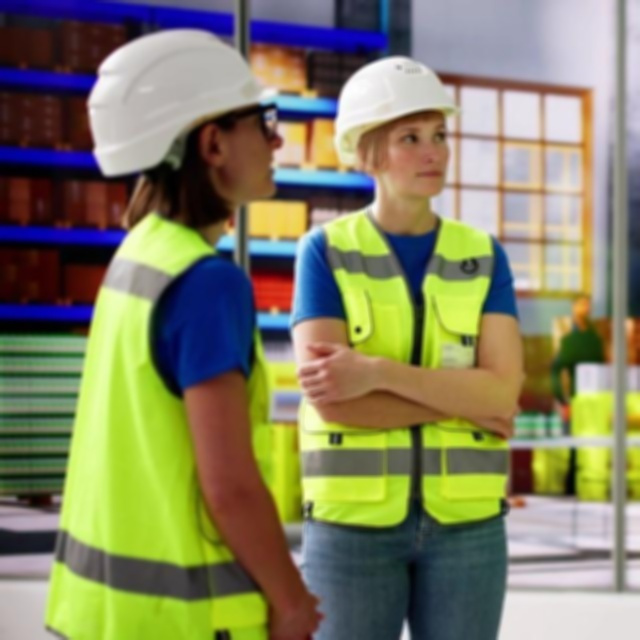Con_Casco: (86, 27, 280, 205), (333, 56, 461, 196)
Con_Chaleco: (61, 223, 290, 640), (299, 207, 509, 521)
